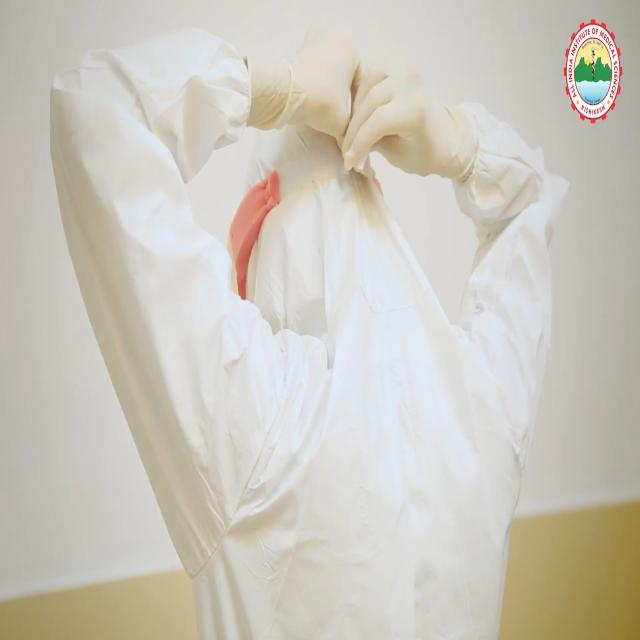Gloves: (343, 65, 488, 205), (243, 20, 353, 177)
